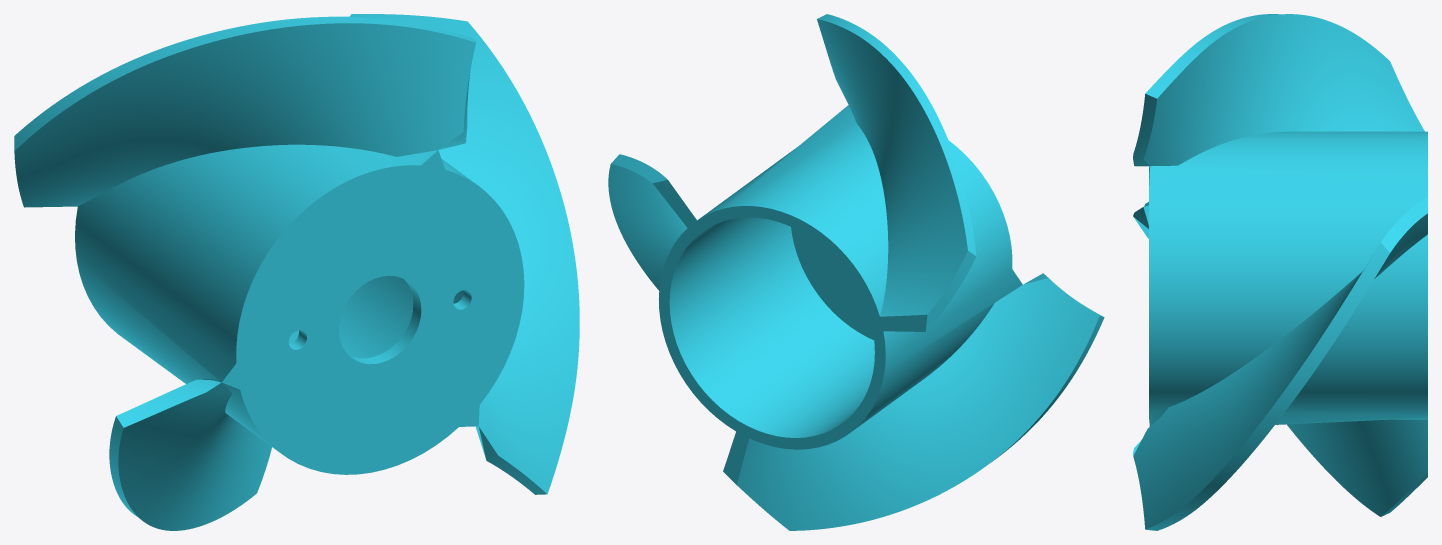
The model's file is Thruster Propeller v3.obj.
3 renders of one model, left to right at view 1: azimuth 30°, elevation 25°; view 2: azimuth 150°, elevation 25°; view 3: azimuth 270°, elevation 25°, orthographic. The views are drawn at different scales.
Parts seen in each view (by area): view 1: Body1; view 2: Body1; view 3: Body1.
Part boxes in pixels (bbox=[...]): Body1: bbox=[14, 14, 579, 530]; Body1: bbox=[608, 14, 1104, 530]; Body1: bbox=[1133, 14, 1427, 530].
Size of the model in its own units: 56.99 by 57.25 by 32.26.
